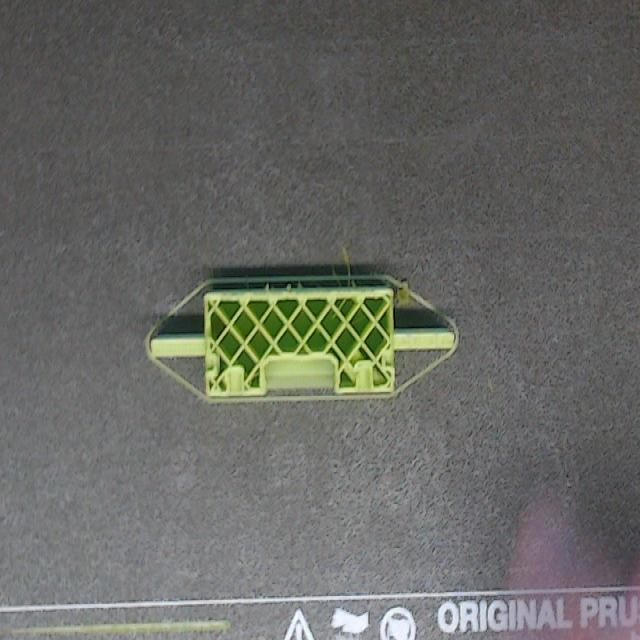mistake: (332, 265, 344, 285), (398, 284, 409, 303), (343, 245, 349, 271), (298, 281, 305, 289)
